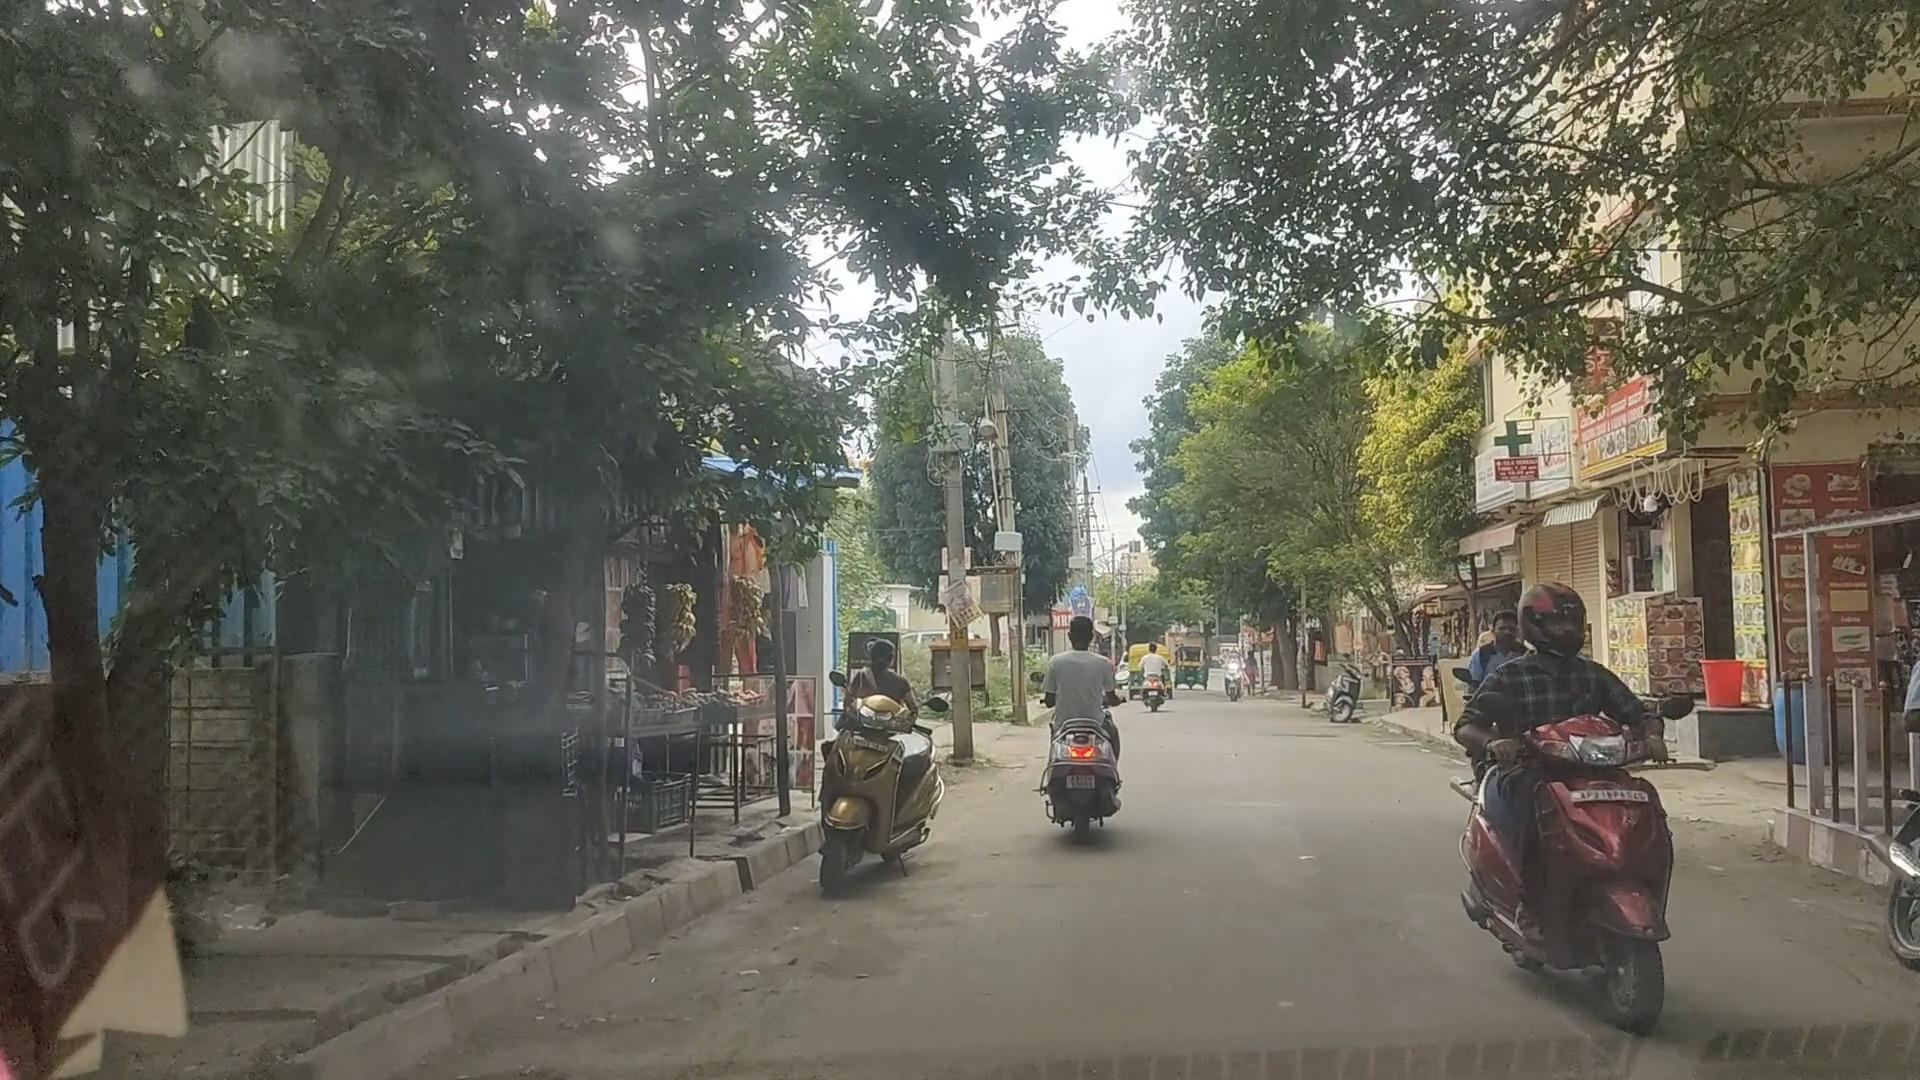LMV: (1423, 530, 1695, 1054), (806, 661, 961, 897), (1029, 591, 1135, 855)
